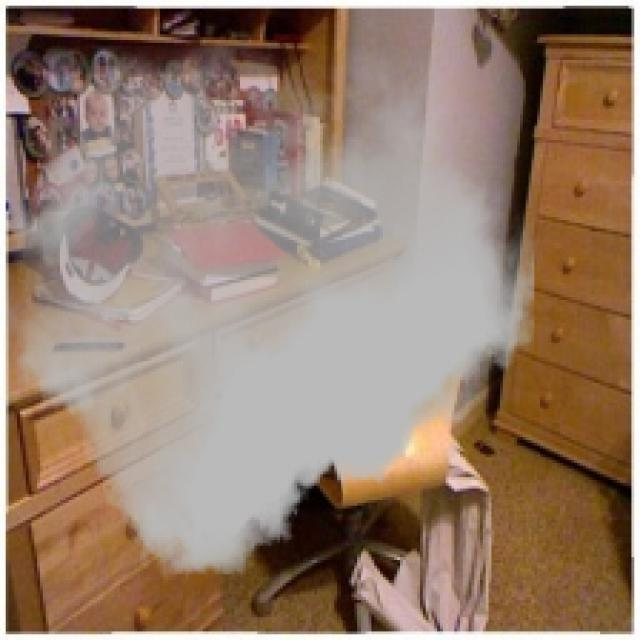Smoke: (8, 46, 534, 574)
